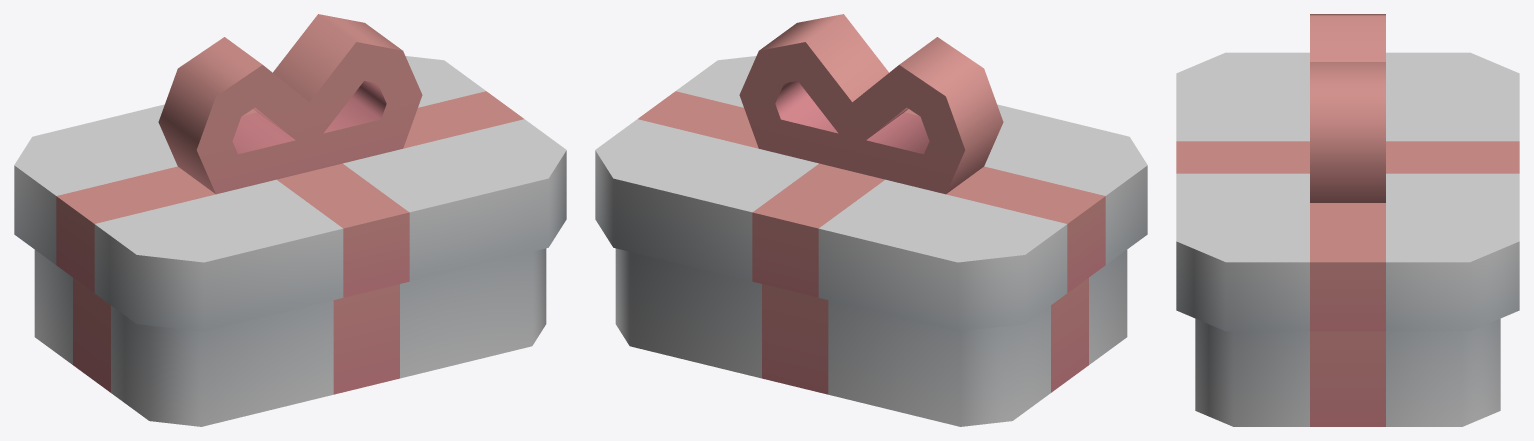
Rendered from present-c.glb.
The picture shows the model from 3 angles, left to right: view 1: azimuth 30°, elevation 25°; view 2: azimuth 150°, elevation 25°; view 3: azimuth 270°, elevation 25°; orthographic projection.
Parts seen in each view (by area): view 1: present-c; view 2: present-c; view 3: present-c.
Boxes of the visible parts, <box> form: present-c: <box>14,14,566,426</box>; present-c: <box>595,14,1147,426</box>; present-c: <box>1176,14,1519,426</box>.
Size of the model in its own units: 0.4875 by 0.3155 by 0.3375.
